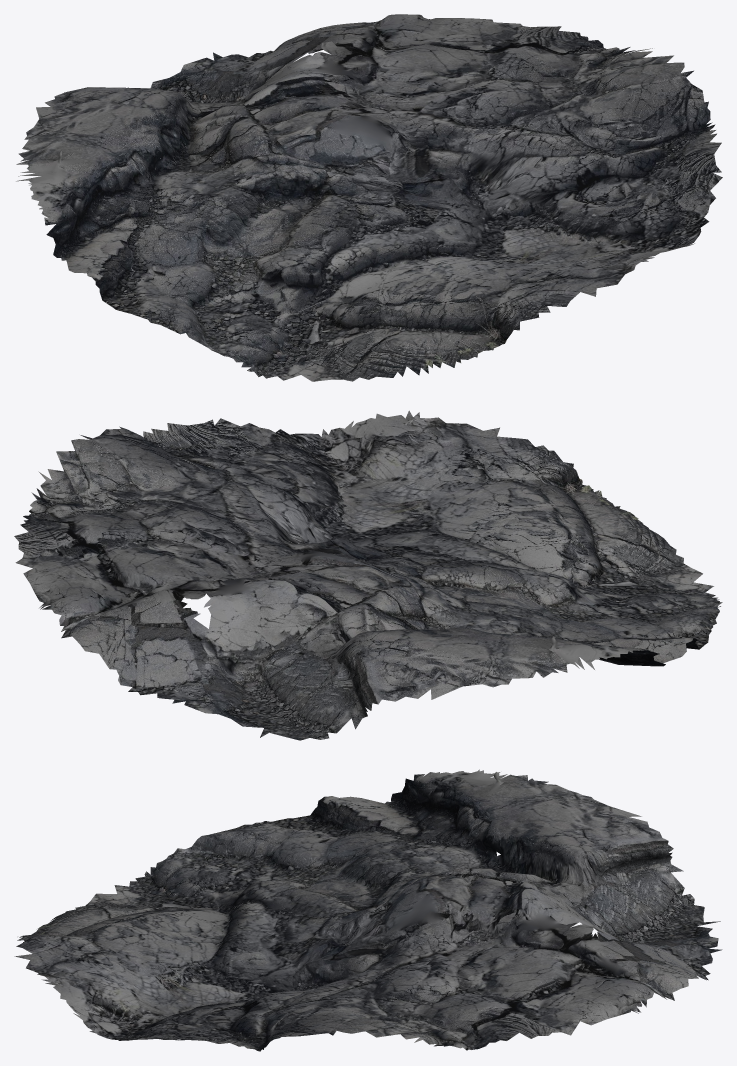
Rendered from rock-pahoehoe-slab-maunaulu.glb.
The picture shows the model from 3 angles, top to bottom: view 1: azimuth 30°, elevation 25°; view 2: azimuth 150°, elevation 25°; view 3: azimuth 270°, elevation 25°; orthographic projection.
Parts seen in each view (by area): view 1: rock-pahoehoe-slab-maunaulu_LOD0; view 2: rock-pahoehoe-slab-maunaulu_LOD0; view 3: rock-pahoehoe-slab-maunaulu_LOD0.
Part boxes in pixels (x1=…): rock-pahoehoe-slab-maunaulu_LOD0: x1=16, y1=14, x2=722, y2=381; rock-pahoehoe-slab-maunaulu_LOD0: x1=14, y1=410, x2=722, y2=740; rock-pahoehoe-slab-maunaulu_LOD0: x1=14, y1=769, x2=722, y2=1051.
Size of what is drawn, in the model's own units: 4.49 by 0.7401 by 4.49.
Materials: 1 (1 with a texture image).
